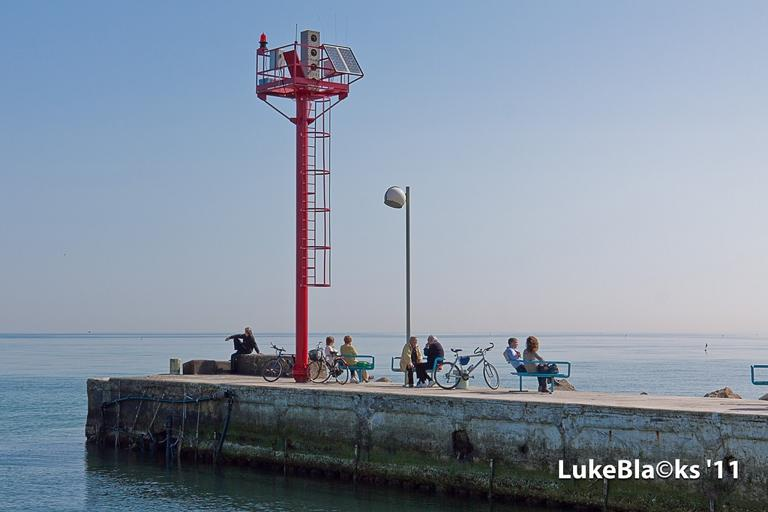non-vehicle: (433, 341, 501, 390), (261, 341, 320, 381), (305, 341, 350, 385)
